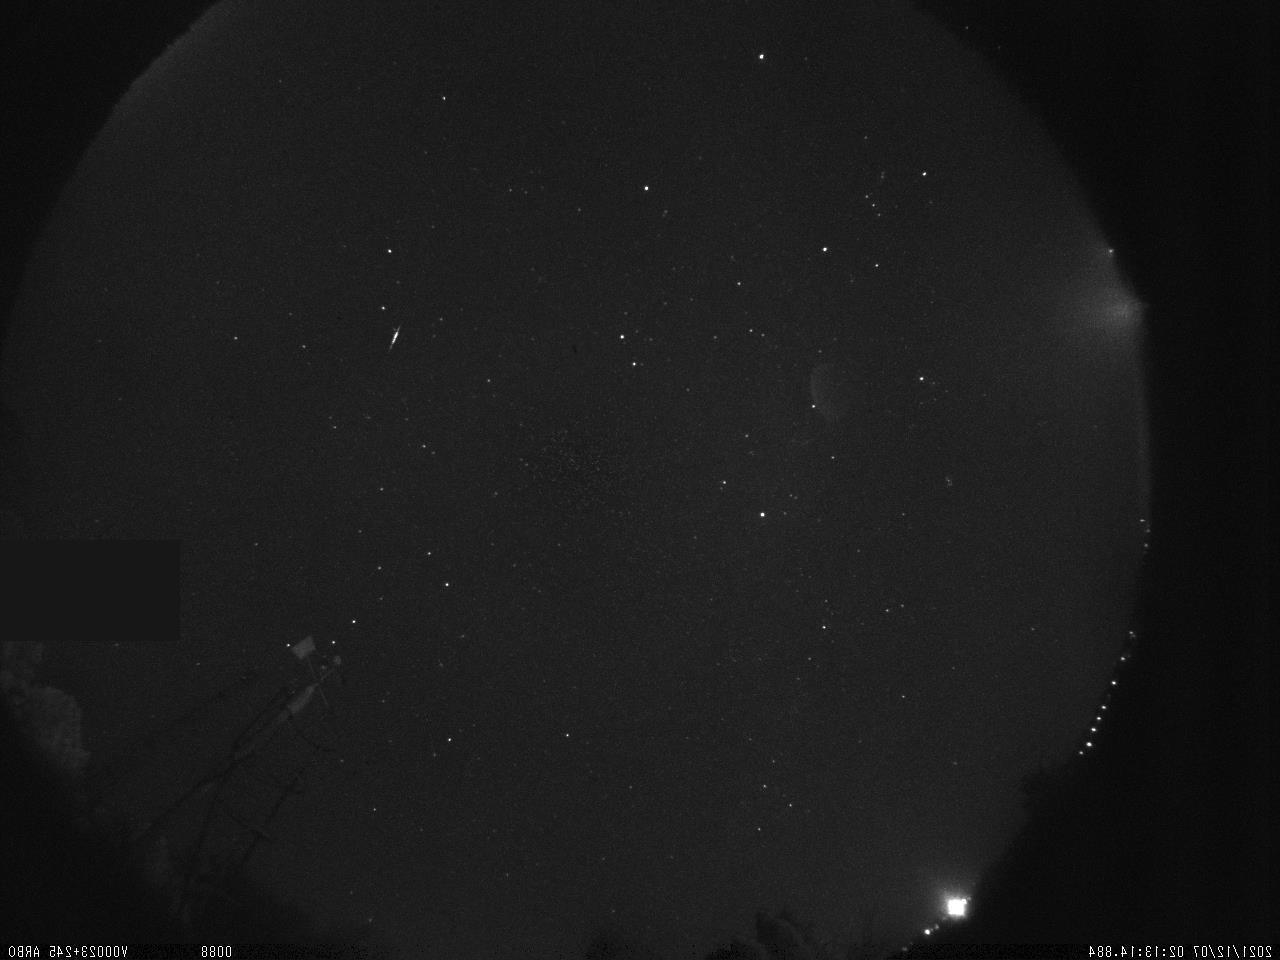meteor: (376, 314, 414, 360)
